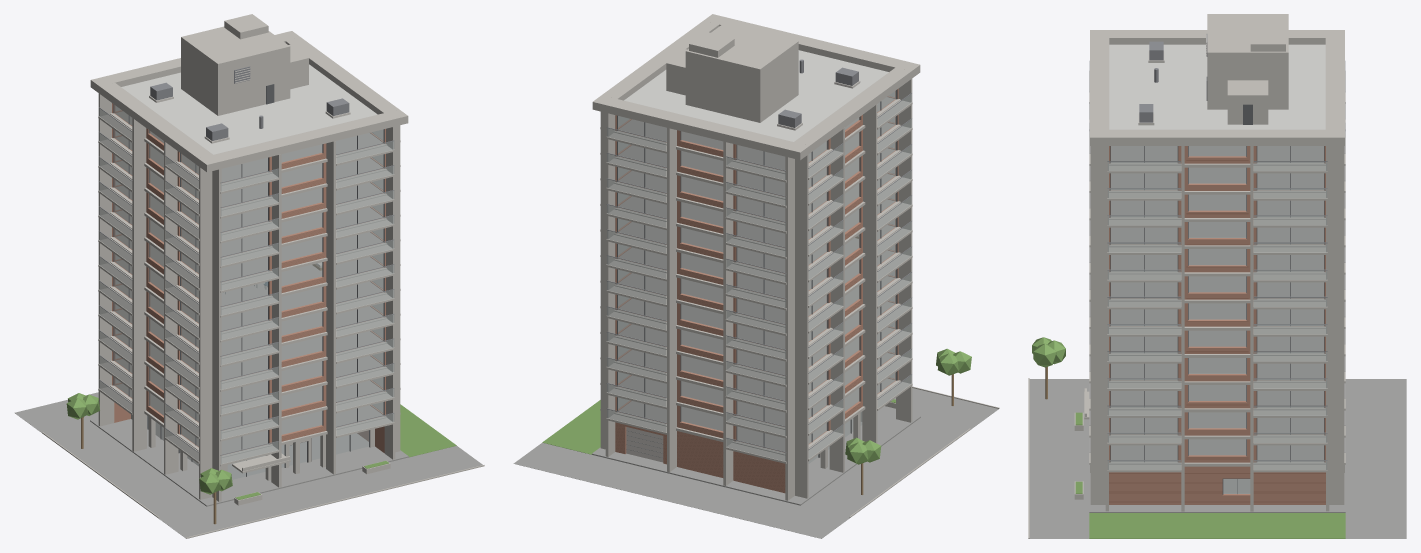
Rendered from clay-slab-balcony-tower-clay-v004.glb.
The picture shows the model from 3 angles, left to right: view 1: azimuth 30°, elevation 25°; view 2: azimuth 150°, elevation 25°; view 3: azimuth 270°, elevation 25°; orthographic projection. The views are drawn at different scales.
Visible parts, largest first — view 1: CLAY_CONCRETE, CLAY_GLASS, CLAY_FLOOR, CLAY_FOUNDATION, CLAY_WALL, CLAY_MEMBRANE, CLAY_HARDWARE, CLAY_PLANTING, CLAY_TRIM, CLAY_STONE; view 2: CLAY_CONCRETE, CLAY_GLASS, CLAY_FLOOR, CLAY_FOUNDATION, CLAY_WALL, CLAY_MEMBRANE, CLAY_HARDWARE, CLAY_PLANTING, CLAY_TRIM, CLAY_JOINT, CLAY_PALE; view 3: CLAY_CONCRETE, CLAY_GLASS, CLAY_FLOOR, CLAY_FOUNDATION, CLAY_WALL, CLAY_MEMBRANE, CLAY_PLANTING, CLAY_HARDWARE, CLAY_JOINT, CLAY_TRIM.
Boxes of the visible parts, left/top/right/bottom form: CLAY_CONCRETE: left=90, top=14, right=408, bottom=505; CLAY_GLASS: left=99, top=105, right=394, bottom=479; CLAY_FLOOR: left=115, top=111, right=382, bottom=454; CLAY_FOUNDATION: left=14, top=392, right=482, bottom=538; CLAY_WALL: left=112, top=103, right=385, bottom=455; CLAY_MEMBRANE: left=121, top=64, right=377, bottom=154; CLAY_HARDWARE: left=98, top=66, right=394, bottom=455; CLAY_PLANTING: left=66, top=393, right=456, bottom=499; CLAY_TRIM: left=113, top=84, right=384, bottom=476; CLAY_STONE: left=42, top=432, right=484, bottom=538; CLAY_CONCRETE: left=592, top=14, right=920, bottom=500; CLAY_GLASS: left=607, top=90, right=911, bottom=463; CLAY_FLOOR: left=618, top=97, right=894, bottom=451; CLAY_FOUNDATION: left=513, top=388, right=998, bottom=538; CLAY_WALL: left=615, top=88, right=898, bottom=492; CLAY_MEMBRANE: left=624, top=50, right=888, bottom=141; CLAY_HARDWARE: left=606, top=59, right=912, bottom=457; CLAY_PLANTING: left=542, top=348, right=971, bottom=464; CLAY_TRIM: left=617, top=90, right=897, bottom=457; CLAY_JOINT: left=615, top=121, right=862, bottom=492; CLAY_PALE: left=626, top=81, right=860, bottom=462; CLAY_CONCRETE: left=1074, top=14, right=1345, bottom=511; CLAY_GLASS: left=1107, top=146, right=1327, bottom=493; CLAY_FLOOR: left=1111, top=146, right=1323, bottom=461; CLAY_FOUNDATION: left=1029, top=379, right=1406, bottom=538; CLAY_WALL: left=1109, top=146, right=1325, bottom=504; CLAY_MEMBRANE: left=1109, top=44, right=1325, bottom=129; CLAY_PLANTING: left=1032, top=337, right=1345, bottom=538; CLAY_HARDWARE: left=1089, top=34, right=1345, bottom=460; CLAY_JOINT: left=1109, top=160, right=1325, bottom=502; CLAY_TRIM: left=1110, top=77, right=1324, bottom=494.
Bounding box in the file's own units: 37.36 × 47 × 37.2.
